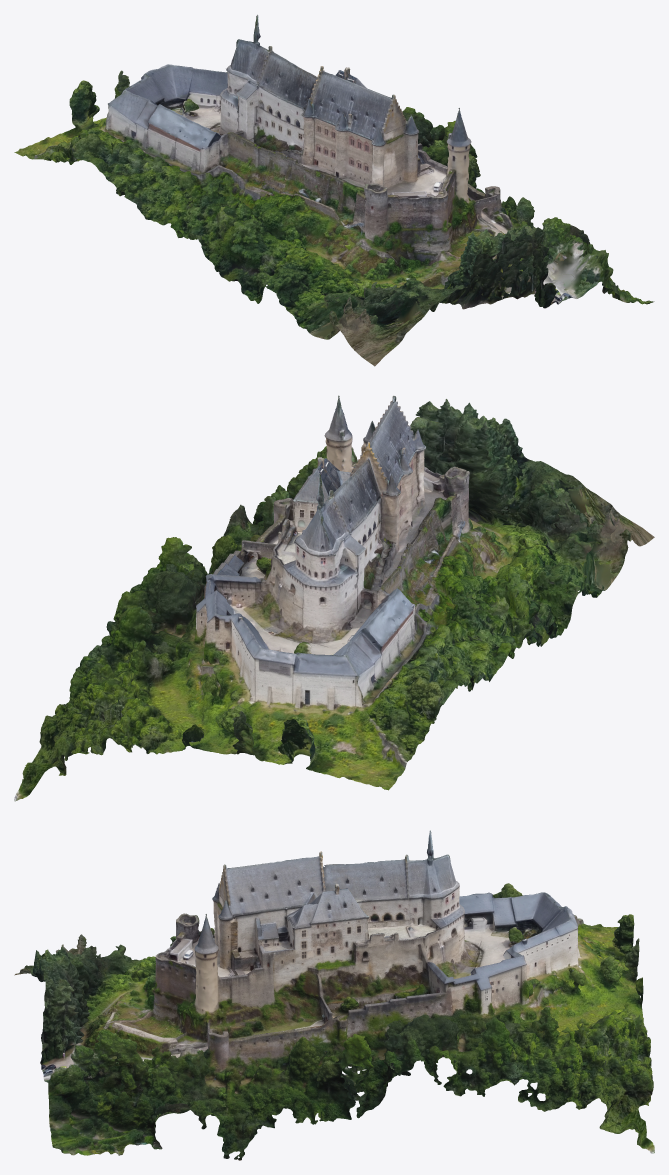
File: mansion_6.glb
The picture shows the model from 3 angles, top to bottom: view 1: azimuth 30°, elevation 25°; view 2: azimuth 150°, elevation 25°; view 3: azimuth 270°, elevation 25°; orthographic projection. The views are drawn at different scales.
Visible parts, largest first — view 1: Model; view 2: Model; view 3: Model.
Boxes of the visible parts, <box> form: Model: <box>14,14,654,366</box>; Model: <box>14,395,654,801</box>; Model: <box>14,830,654,1160</box>.
Size of the model in its own units: 71.9 by 45.14 by 106.
Materials: 2 (2 with a texture image).
